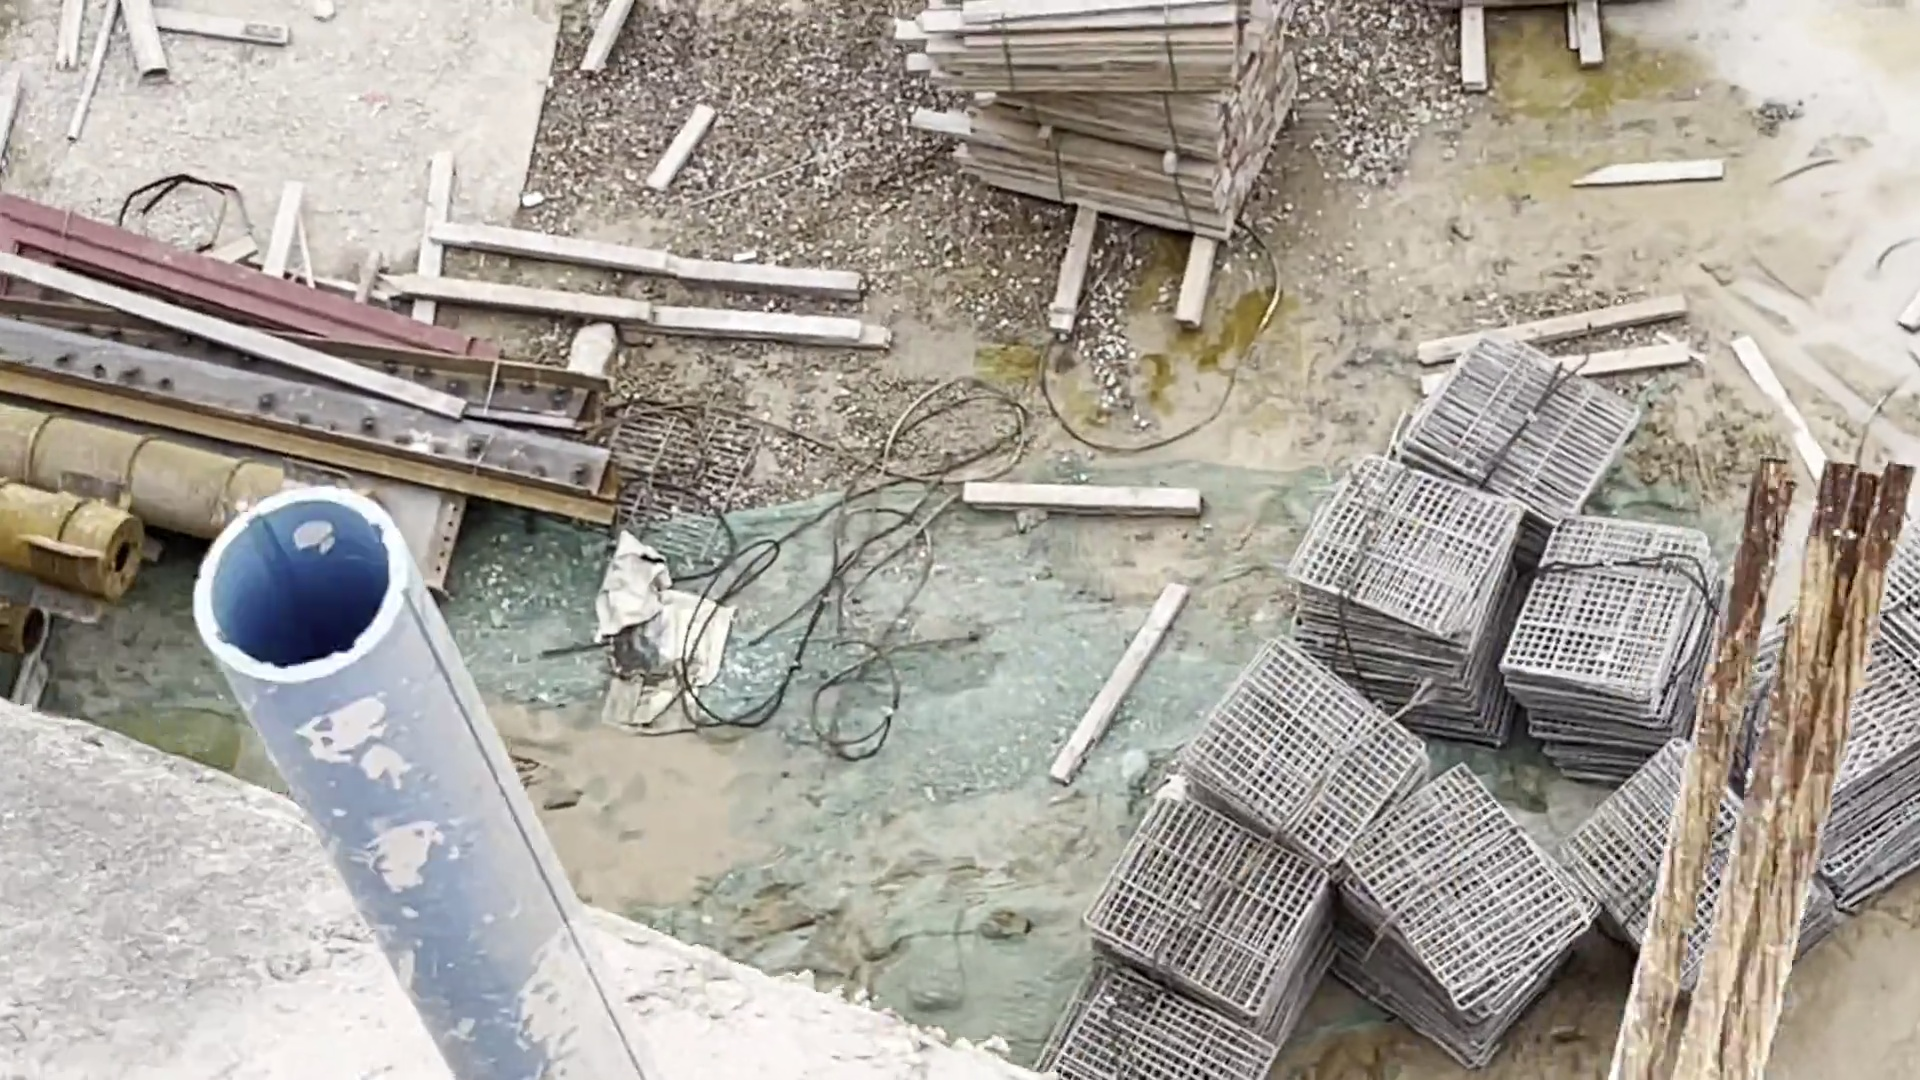wood: (889, 3, 1296, 249)
